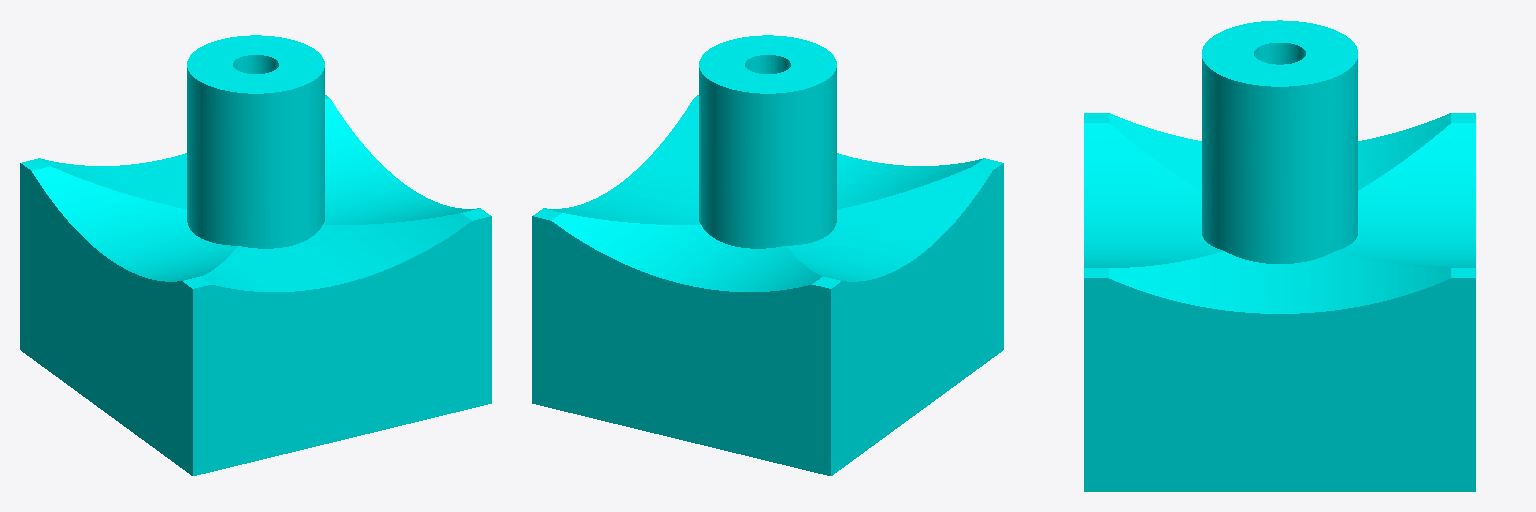
URDF robot description (centre01):
<robot name="centre01">
  <link name="centre01">
    <contact>
      <rolling_friction value="0.001"/>
      <spinning_friction value="0.001"/>
    </contact>
    <visual>
      <origin rpy="0 0 0" xyz="0 0 0"/>
      <geometry>
		<mesh filename="centre01.stl" scale="0.001 0.001 0.001"/>
      </geometry>
      <material name="cyan">
        <color rgba="0 1.0 1.0 1.0"/>
      </material>
    </visual>
    <collision>
      <origin rpy="0 0 0" xyz="0 0 0"/>
      <geometry>
	    <mesh filename="centre01.stl" scale="0.001 0.001 0.001"/>
      </geometry>
    </collision>
    </link>
</robot>

--- Render facts (derived) ---
3 views of the same robot in one strip: view 1: azimuth 30°, elevation 25°; view 2: azimuth 150°, elevation 25°; view 3: azimuth 270°, elevation 25° (orthographic).
Robot: centre01 — 1 links, 0 joints (none); root link centre01; default pose: all joints at 0.
Links seen in each view (by area): view 1: centre01; view 2: centre01; view 3: centre01.
Boxes of the visible links, x1,y1,x2,y2 form: centre01: [20, 35, 491, 475]; centre01: [532, 35, 1003, 475]; centre01: [1084, 20, 1475, 491].
Size in the robot's own frame: 0.019 by 0.019 by 0.0191 metres.
Meshes: 1 distinct files referenced, 1 mesh visuals loaded (1 binary STL).